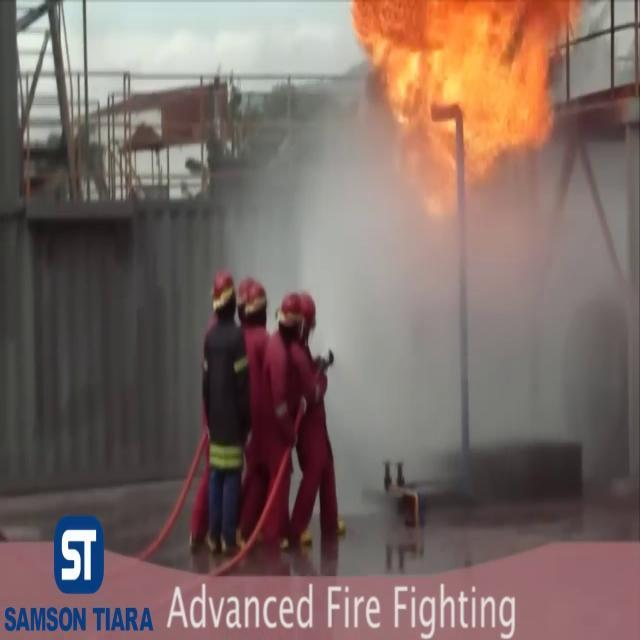Fire: (353, 1, 559, 190)
